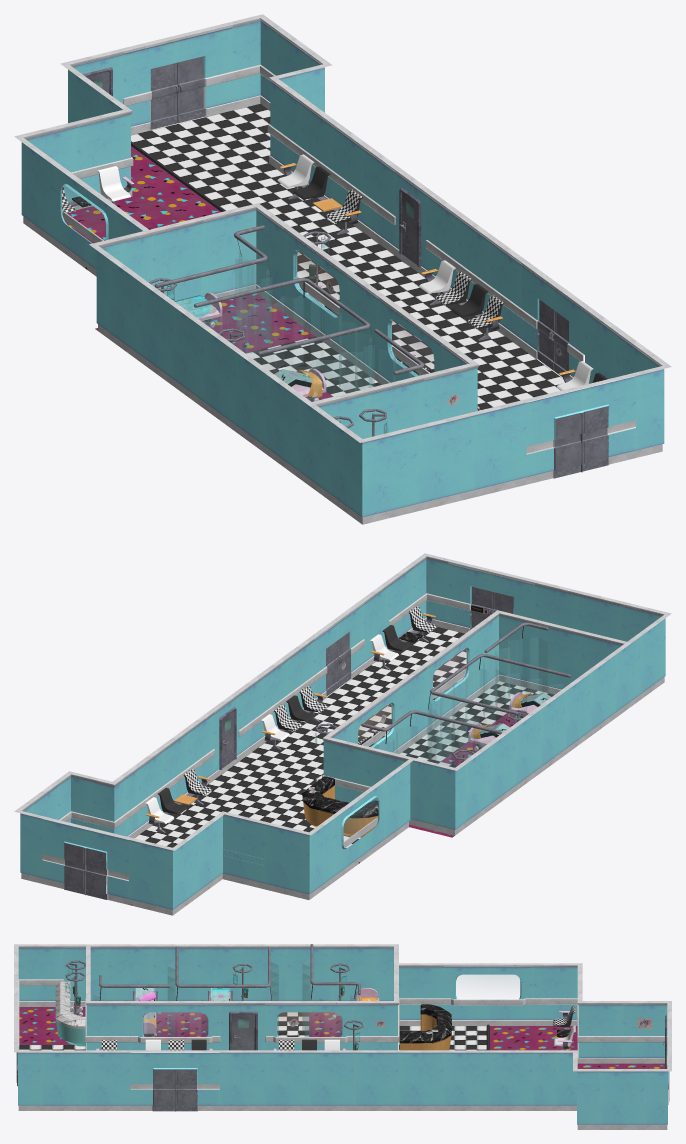
Rendered from funky_hospital.glb.
The picture shows the model from 3 angles, top to bottom: view 1: azimuth 30°, elevation 25°; view 2: azimuth 150°, elevation 25°; view 3: azimuth 270°, elevation 25°; orthographic projection. The views are drawn at different scales.
Visible parts, largest first — view 1: Object_2, Object_7, Object_5, Object_10, Object_9, Object_3, Object_15, Object_6, Object_8; view 2: Object_2, Object_7, Object_5, Object_9, Object_10, Object_15, Object_6, Object_13, Object_3; view 3: Object_2, Object_7, Object_3, Object_10, Object_6, Object_9, Object_5, Object_13, Object_15, Object_14, Object_8, Object_12 (+1 smaller).
Boxes of the visible parts, x1,y1,x2,y2 form: Object_2: [14, 14, 671, 524]; Object_7: [49, 22, 638, 484]; Object_5: [85, 104, 564, 410]; Object_10: [68, 56, 608, 478]; Object_9: [179, 245, 422, 401]; Object_3: [65, 146, 332, 401]; Object_15: [62, 154, 607, 410]; Object_6: [61, 163, 575, 409]; Object_8: [176, 296, 312, 387]; Object_2: [14, 553, 671, 915]; Object_7: [40, 559, 537, 904]; Object_5: [130, 627, 554, 905]; Object_9: [364, 637, 565, 767]; Object_10: [64, 586, 570, 899]; Object_15: [145, 606, 466, 823]; Object_6: [146, 613, 537, 836]; Object_13: [174, 631, 422, 837]; Object_3: [409, 713, 526, 837]; Object_2: [14, 944, 671, 1129]; Object_7: [14, 963, 671, 1110]; Object_3: [19, 1007, 664, 1068]; Object_10: [16, 944, 669, 1111]; Object_6: [70, 975, 571, 1050]; Object_9: [93, 959, 361, 1036]; Object_5: [19, 1012, 489, 1050]; Object_13: [399, 1004, 570, 1050]; Object_15: [101, 1006, 575, 1050]; Object_14: [55, 981, 85, 1046]; Object_8: [135, 988, 379, 1018]; Object_12: [65, 965, 360, 1050].
Size of the model in its own units: 6.72 by 1.58 by 14.72.
Materials: 14 (12 with a texture image).
